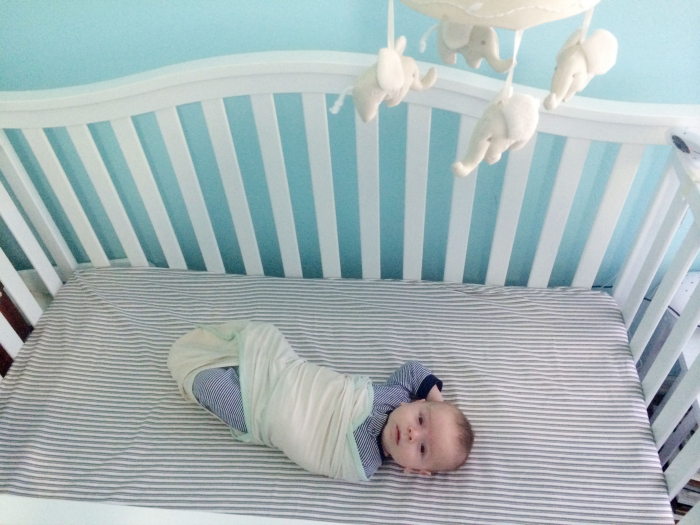baby: (168, 321, 472, 480)
crib: (0, 52, 501, 324)
